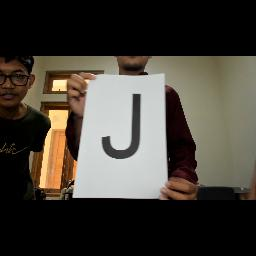j: (99, 91, 145, 159)
